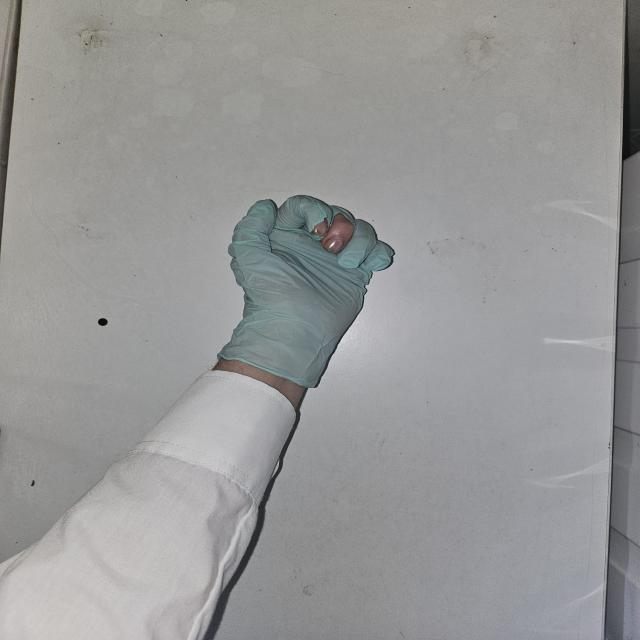gloves_damaged: (216, 194, 400, 391)
